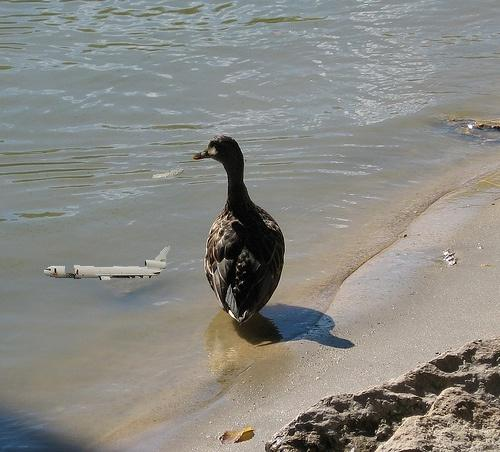tampered: (45, 247, 170, 280)
